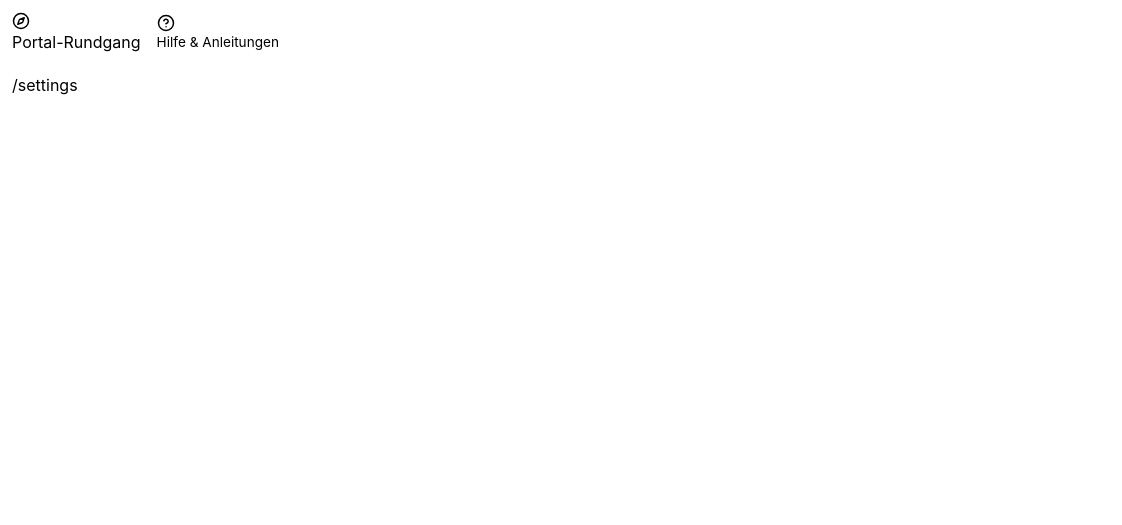
Test: live portal guidance › navigates only after explicit choices, pauses and resumes after remount per actor
Later steps or results of the test are not shown.
Click the button "Portal-Rundgang": click(76, 33) [12,12,141,54]
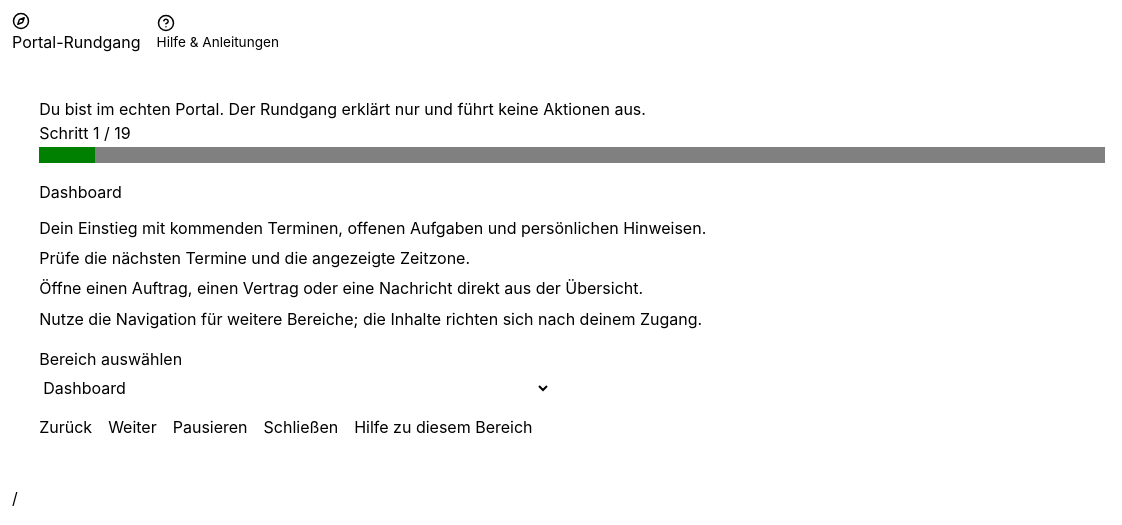
Result: the text "Du bist im echten Portal" is shown at [39,99,646,119]
Click the button "Weiter": click(132, 427) [108,415,157,439]
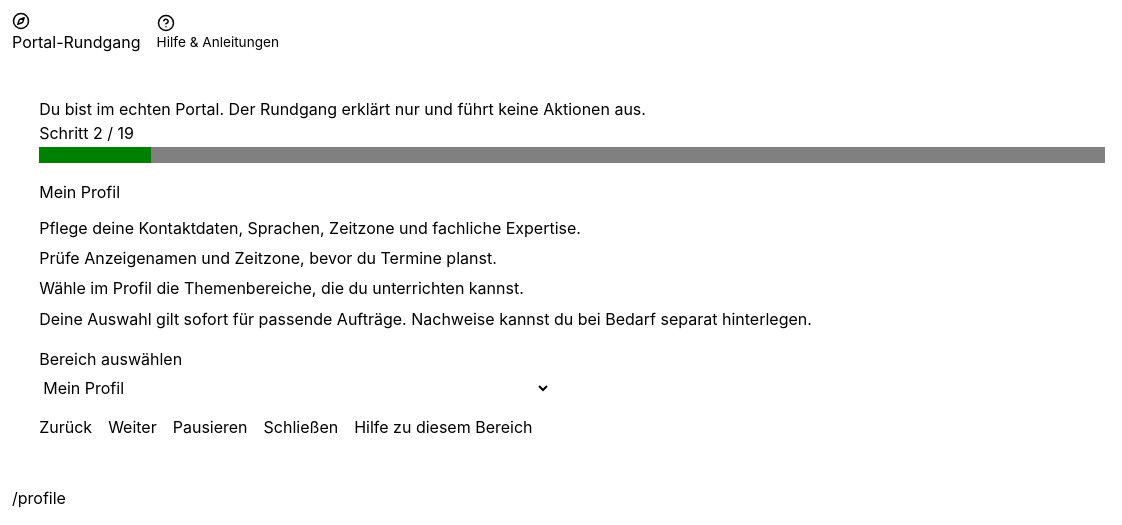
Result: the text named "route" reads "/profile" at [12,488,66,508]
Click the button "Pausieren": click(210, 427) [173,415,248,439]
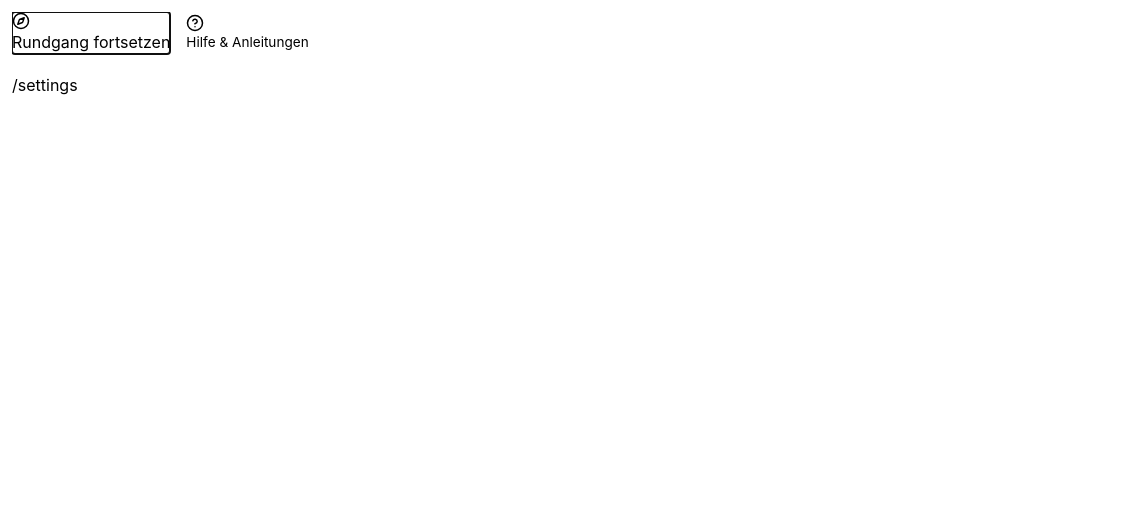
Result: the progress indicator is gone
